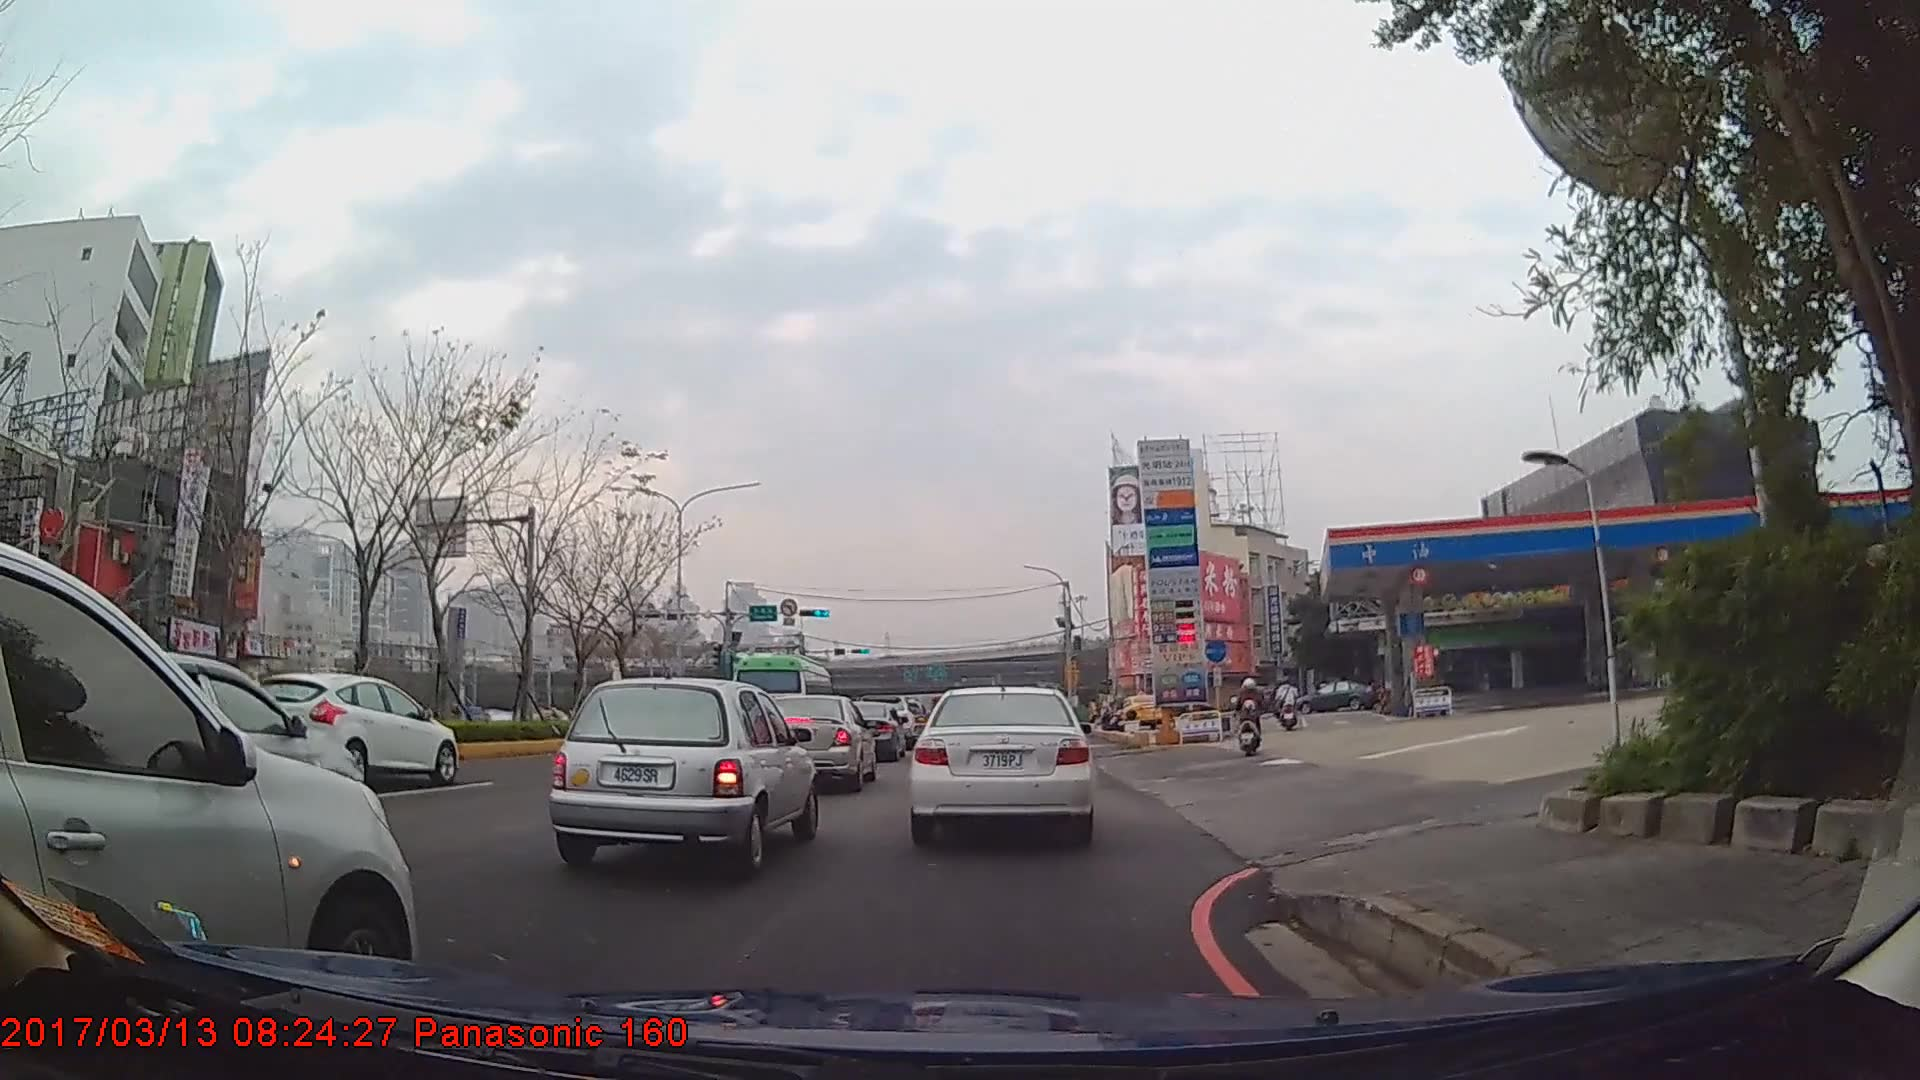rider: (1233, 674, 1265, 754), (1276, 679, 1300, 732)
vehicle: (0, 540, 417, 1014), (546, 670, 816, 874), (911, 681, 1093, 846), (240, 670, 458, 786), (749, 690, 874, 790), (727, 649, 831, 738), (830, 698, 906, 764), (1295, 677, 1376, 710), (1115, 690, 1165, 725)
